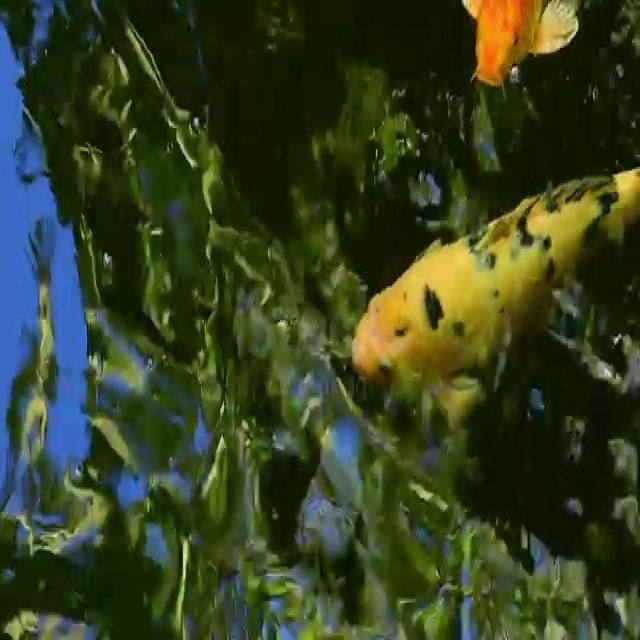fish: (339, 139, 640, 439)
